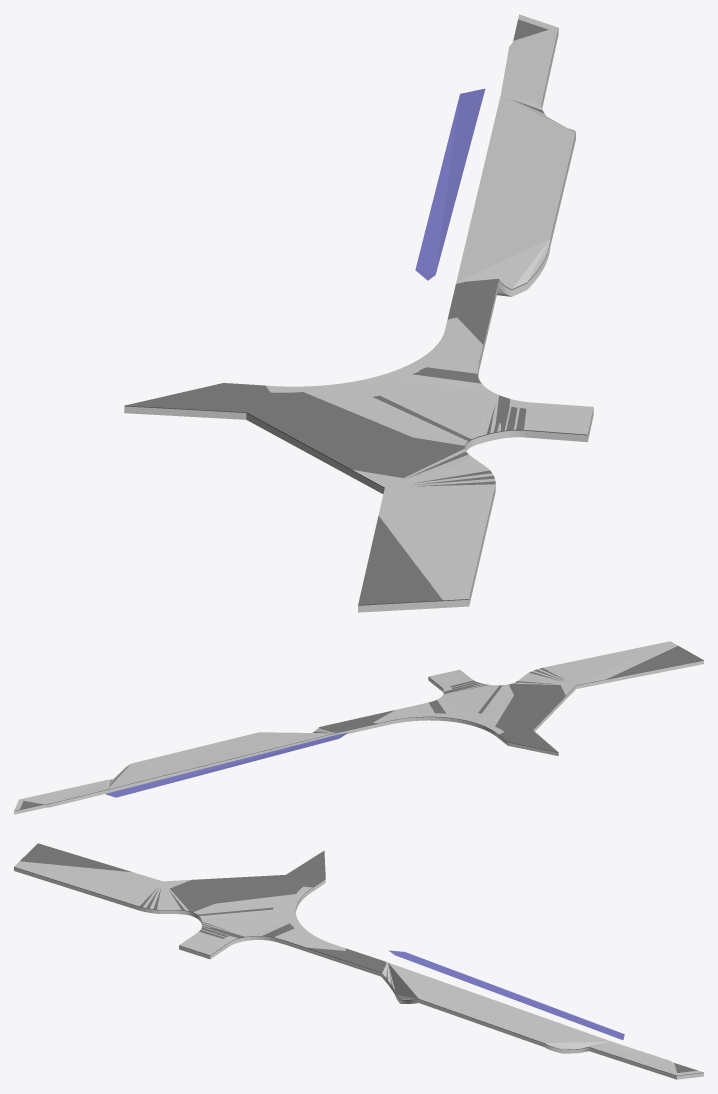
Rendered from 04_surface_projet.glb.
3 renders of one model, top to bottom at view 1: azimuth 30°, elevation 25°; view 2: azimuth 150°, elevation 25°; view 3: azimuth 270°, elevation 25°, orthographic. The views are drawn at different scales.
Parts seen in each view (by area): view 1: 2wriu1vm1E09W0C01c06W0, 2wqiu1vm1E09W0C01c06W0, 03Dnb_z6T6Vg1c5j7G3frJ, 2wrCu1vm1E09W0C01c06W0, 0axy5vDoX0TxcldeLuazpW, 13VVOkMebDTxylgM4kb5uu, 1iBbkbqp57L8_y2m_3OXEU; view 2: 2wriu1vm1E09W0C01c06W0, 2wqiu1vm1E09W0C01c06W0, 03Dnb_z6T6Vg1c5j7G3frJ, 2wrCu1vm1E09W0C01c06W0, 0axy5vDoX0TxcldeLuazpW, 13VVOkMebDTxylgM4kb5uu, 2HkGr4oAzEuQ0pXURWDuPL, 0Ga6gWe_L81eHrltWtxONu, 1iBbkbqp57L8_y2m_3OXEU; view 3: 2wriu1vm1E09W0C01c06W0, 2wqiu1vm1E09W0C01c06W0, 03Dnb_z6T6Vg1c5j7G3frJ, 2wrCu1vm1E09W0C01c06W0, 2HkGr4oAzEuQ0pXURWDuPL, 13VVOkMebDTxylgM4kb5uu, 0axy5vDoX0TxcldeLuazpW, 0Ga6gWe_L81eHrltWtxONu, 1iBbkbqp57L8_y2m_3OXEU.
Boxes of the visible parts, box(x1,y1,x2,y2) form: 2wriu1vm1E09W0C01c06W0: box(266, 328, 593, 600); 2wqiu1vm1E09W0C01c06W0: box(445, 14, 575, 362); 03Dnb_z6T6Vg1c5j7G3frJ: box(124, 365, 593, 605); 2wrCu1vm1E09W0C01c06W0: box(415, 88, 485, 280); 0axy5vDoX0TxcldeLuazpW: box(124, 368, 593, 612); 13VVOkMebDTxylgM4kb5uu: box(447, 19, 575, 363); 1iBbkbqp57L8_y2m_3OXEU: box(124, 366, 593, 607); 2wriu1vm1E09W0C01c06W0: box(388, 641, 677, 734); 2wqiu1vm1E09W0C01c06W0: box(14, 705, 416, 810); 03Dnb_z6T6Vg1c5j7G3frJ: box(387, 645, 703, 752); 2wrCu1vm1E09W0C01c06W0: box(105, 733, 347, 797); 0axy5vDoX0TxcldeLuazpW: box(387, 661, 703, 755); 13VVOkMebDTxylgM4kb5uu: box(14, 710, 394, 811); 2HkGr4oAzEuQ0pXURWDuPL: box(14, 723, 387, 814); 0Ga6gWe_L81eHrltWtxONu: box(14, 722, 387, 812); 1iBbkbqp57L8_y2m_3OXEU: box(387, 660, 703, 753); 2wriu1vm1E09W0C01c06W0: box(14, 861, 334, 955); 2wqiu1vm1E09W0C01c06W0: box(286, 940, 703, 1075); 03Dnb_z6T6Vg1c5j7G3frJ: box(14, 843, 325, 955); 2wrCu1vm1E09W0C01c06W0: box(388, 950, 624, 1039); 2HkGr4oAzEuQ0pXURWDuPL: box(285, 942, 703, 1079); 13VVOkMebDTxylgM4kb5uu: box(286, 941, 703, 1075); 0axy5vDoX0TxcldeLuazpW: box(14, 868, 325, 959); 0Ga6gWe_L81eHrltWtxONu: box(285, 941, 703, 1076); 1iBbkbqp57L8_y2m_3OXEU: box(14, 867, 325, 956).
Size of the model in its own units: 66.29 by 4.16 by 92.33.
